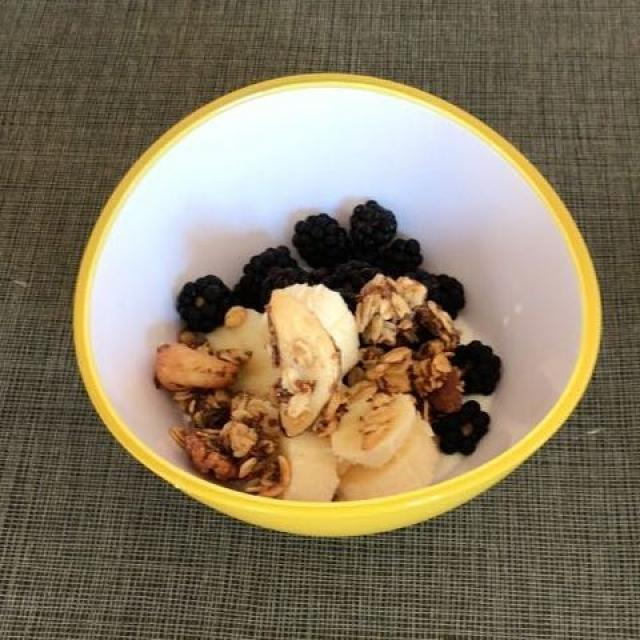banana: (199, 294, 444, 496)
blackberry: (172, 200, 518, 432)
muesli: (166, 330, 315, 502), (333, 266, 470, 411)
